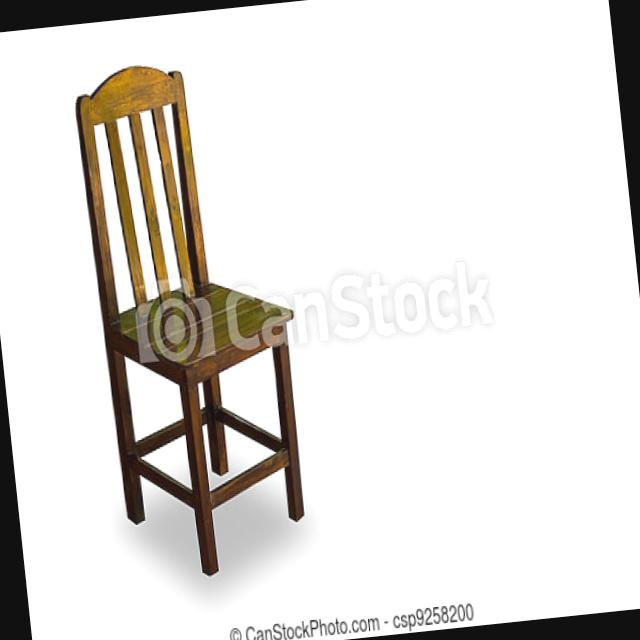obstacle: (62, 50, 360, 599)
